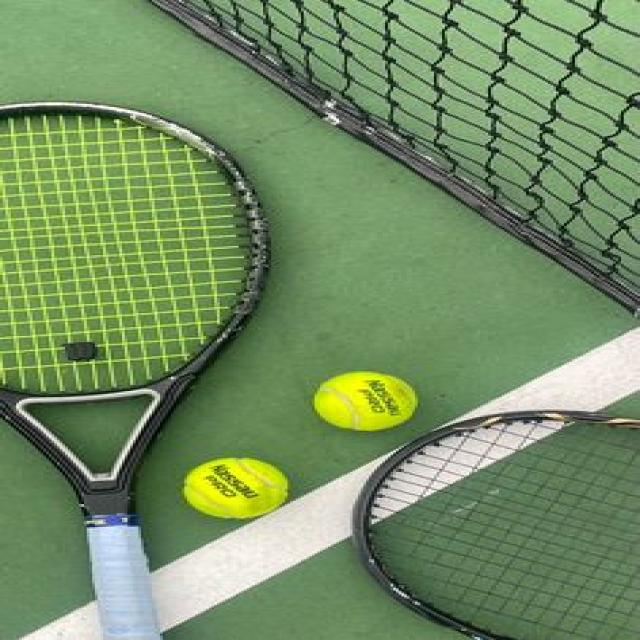tennis: (178, 456, 302, 524), (311, 368, 424, 437)
